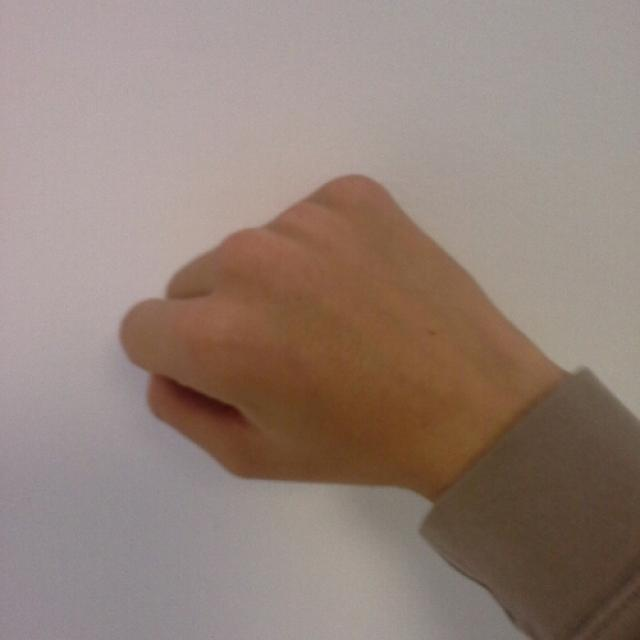fist: (122, 170, 466, 488)
